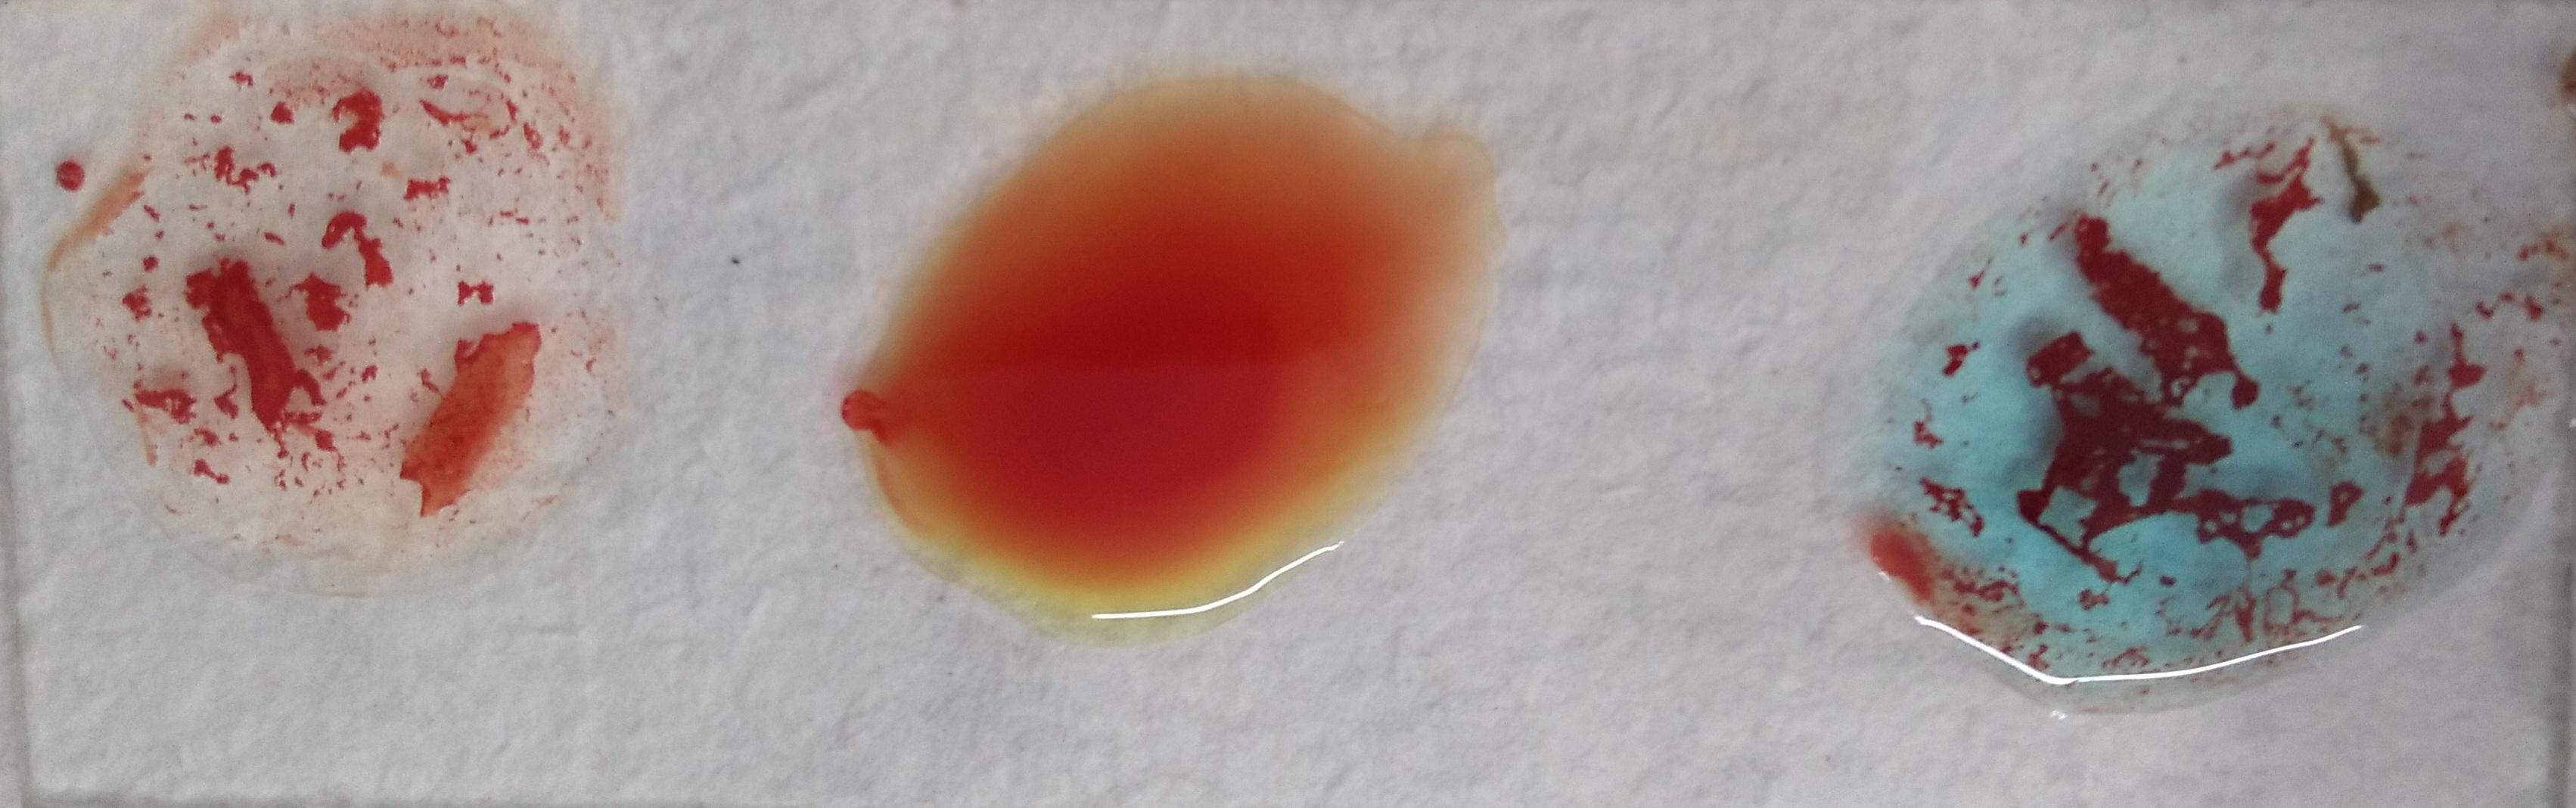A: (1886, 94, 2509, 682)
D: (99, 23, 621, 572)
